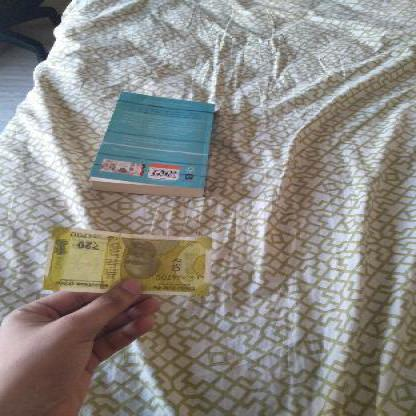New20Front: (47, 228, 217, 298)
